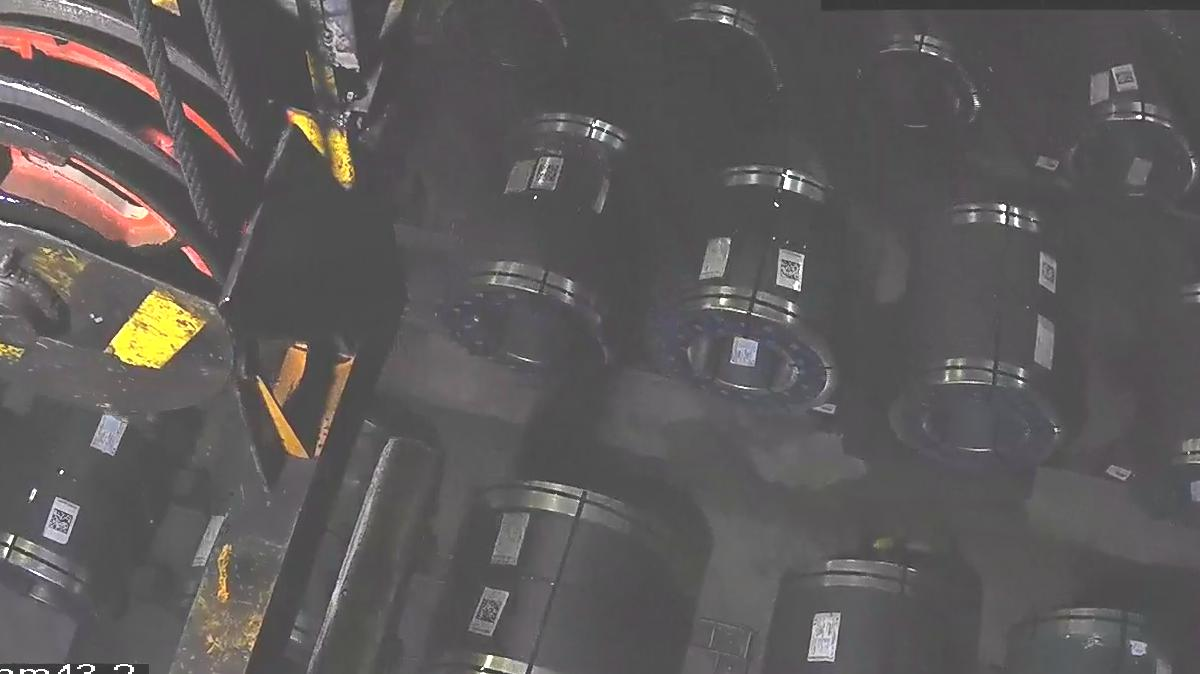data matrix: (474, 597, 505, 627), (47, 507, 76, 537), (535, 163, 562, 185), (779, 259, 803, 283), (1041, 260, 1058, 287), (1113, 69, 1137, 88)
